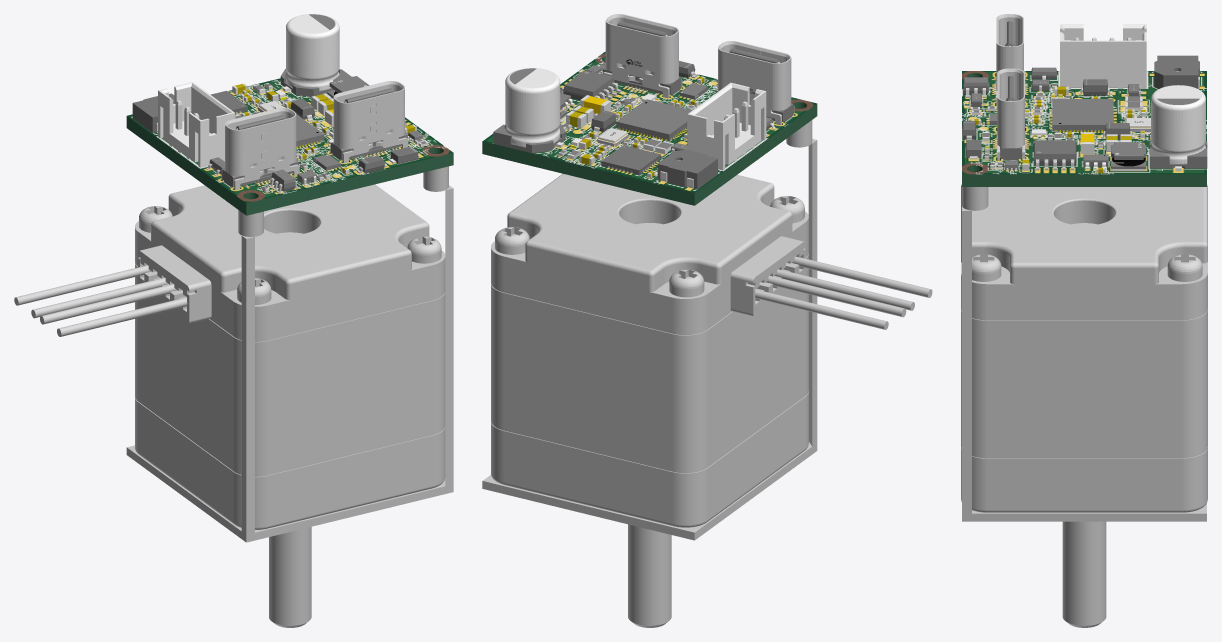
The model's file is development-assembly.glb.
3 renders of one model, left to right at view 1: azimuth 30°, elevation 25°; view 2: azimuth 150°, elevation 25°; view 3: azimuth 270°, elevation 25°, orthographic. The views are drawn at different scales.
Parts seen in each view (by area): view 1: OEM_11HS12_0674S, FRONT_CARRIER_PROPOSAL, Box0, J_PD, J_DATA, J_MOTOR, C_BULK, BZ1, U_MCU; view 2: OEM_11HS12_0674S, Box0, FRONT_CARRIER_PROPOSAL, J_PD, J_MOTOR, C_BULK, J_DATA, U_MCU, BZ1, U_PD, U_DRV; view 3: OEM_11HS12_0674S, Box0, FRONT_CARRIER_PROPOSAL, J_MOTOR, C_BULK, J_PD, U_MCU, J_DATA, BZ1, U_PD, L_BUCK, D_DATA (+3 smaller).
Boxes of the visible parts, x1,y1,x2,y2 form: OEM_11HS12_0674S: [14, 184, 445, 627]; FRONT_CARRIER_PROPOSAL: [126, 166, 453, 542]; Box0: [126, 69, 453, 215]; J_PD: [330, 81, 408, 163]; J_DATA: [221, 108, 299, 190]; J_MOTOR: [158, 82, 235, 167]; C_BULK: [280, 14, 350, 96]; BZ1: [132, 93, 174, 132]; U_MCU: [296, 114, 324, 147]; OEM_11HS12_0674S: [491, 174, 932, 627]; Box0: [482, 51, 817, 205]; FRONT_CARRIER_PROPOSAL: [482, 120, 817, 540]; J_PD: [602, 14, 682, 98]; J_MOTOR: [687, 82, 766, 170]; C_BULK: [493, 68, 565, 153]; J_DATA: [718, 41, 794, 125]; U_MCU: [616, 99, 692, 141]; BZ1: [657, 149, 717, 189]; U_PD: [560, 70, 621, 100]; U_DRV: [601, 145, 660, 174]; OEM_11HS12_0674S: [961, 184, 1207, 627]; Box0: [962, 71, 1206, 186]; FRONT_CARRIER_PROPOSAL: [962, 187, 1206, 521]; J_MOTOR: [1060, 24, 1146, 88]; C_BULK: [1149, 85, 1207, 171]; J_PD: [995, 68, 1027, 160]; U_MCU: [1052, 99, 1113, 131]; J_DATA: [994, 14, 1026, 106]; BZ1: [1154, 55, 1199, 88]; U_PD: [1033, 140, 1076, 170]; L_BUCK: [1111, 142, 1146, 170]; D_DATA: [1078, 79, 1112, 95].
Bounding box in the file's own units: 48.2 × 70.55 × 28.2.
29 materials, 2 textured.
